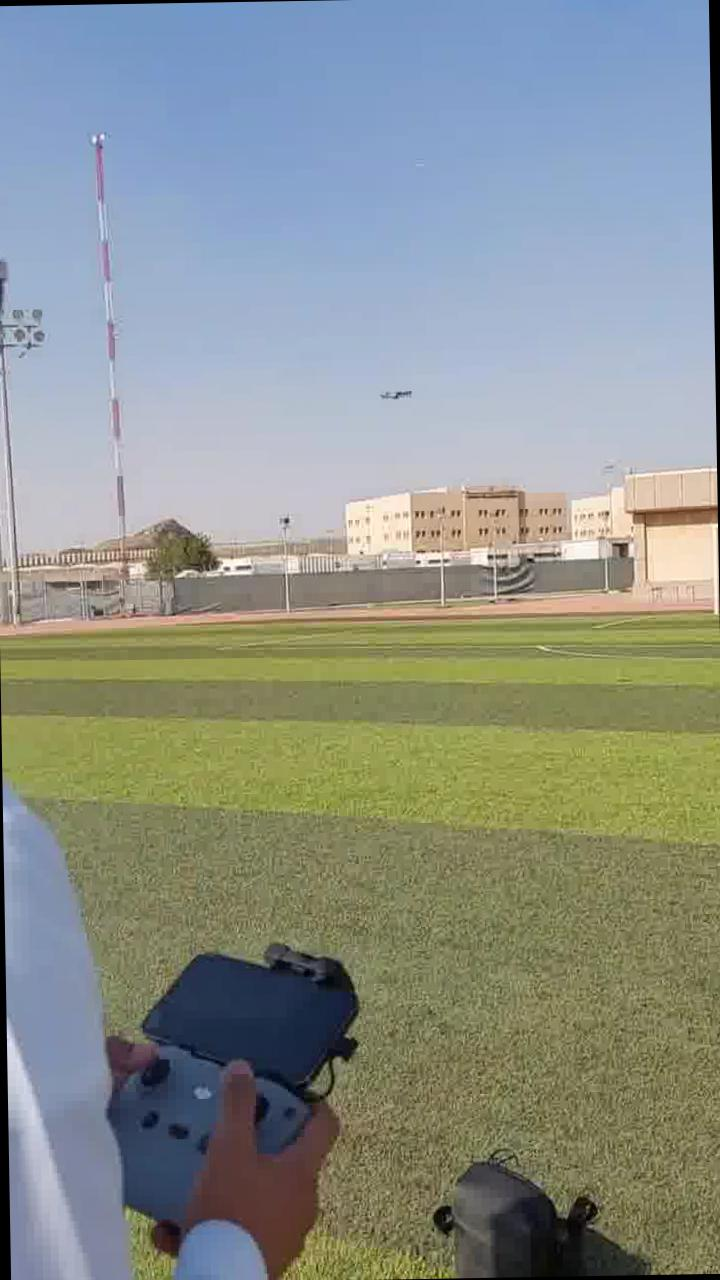drone: (364, 380, 423, 405)
